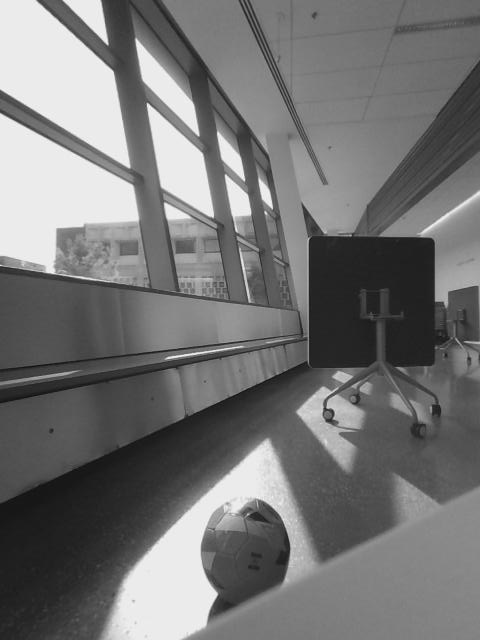ball: (193, 492, 303, 600)
